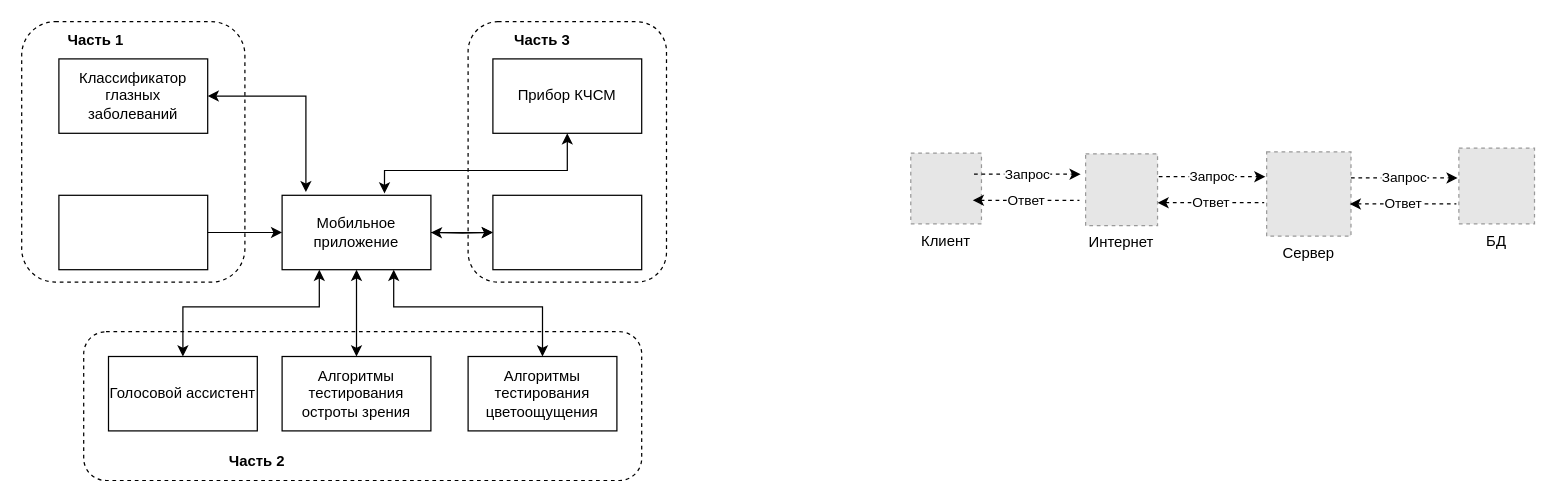
This 1556x502 diagram has some shape labels left out. Grey dashed boxes stand in for pictures. Each missing label, with the box of its shape:
VR-очки: (492, 194, 642, 270)
Бинокулярный офтальмоскоп: (58, 194, 208, 270)
